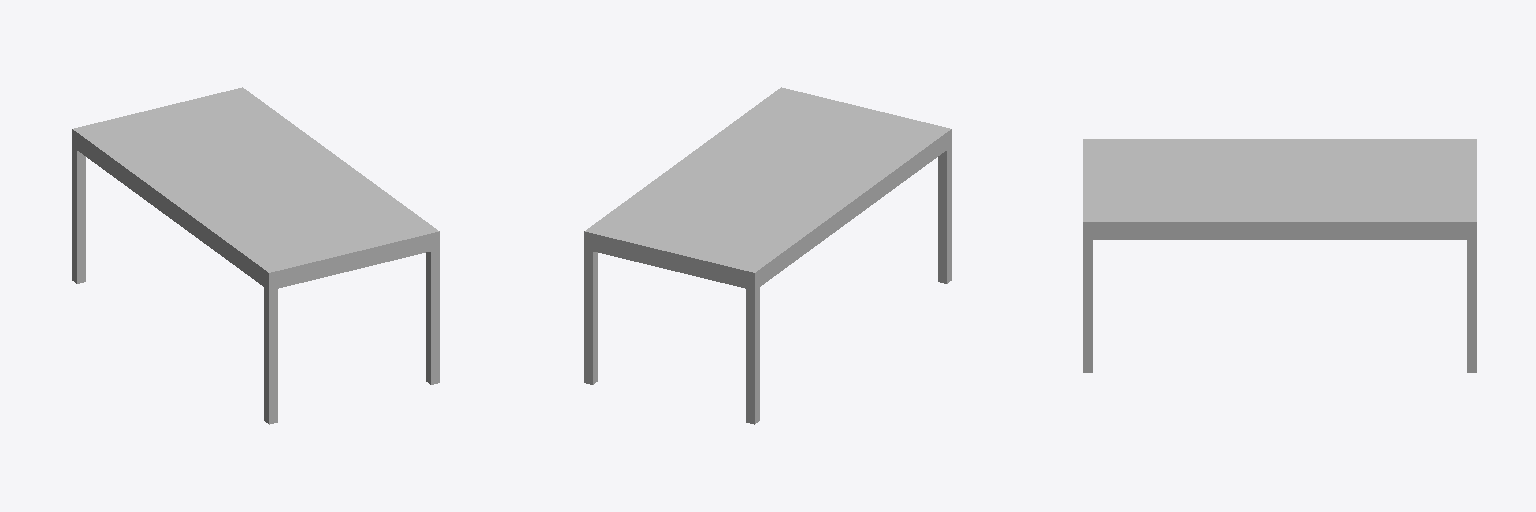
The model's file is long table.obj.
3 renders of one model, left to right at view 1: azimuth 30°, elevation 25°; view 2: azimuth 150°, elevation 25°; view 3: azimuth 270°, elevation 25°, orthographic.
Visible parts, largest first — view 1: long table; view 2: long table; view 3: long table.
Boxes of the visible parts, x1=… form: long table: x1=72, y1=87, x2=439, y2=424; long table: x1=584, y1=87, x2=951, y2=424; long table: x1=1083, y1=139, x2=1476, y2=372.
Bounding box in the file's own units: 20 × 17 × 40.